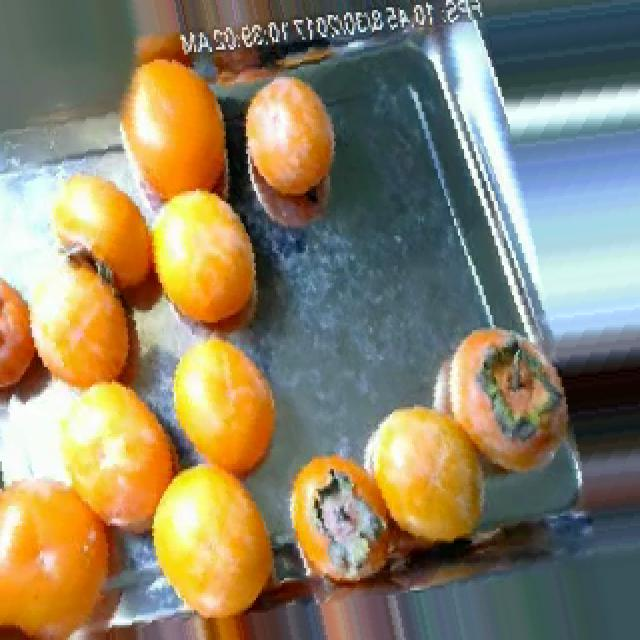Fruit: (332, 382, 508, 571), (140, 446, 288, 640), (158, 320, 302, 504), (240, 62, 370, 248), (0, 258, 64, 427)
